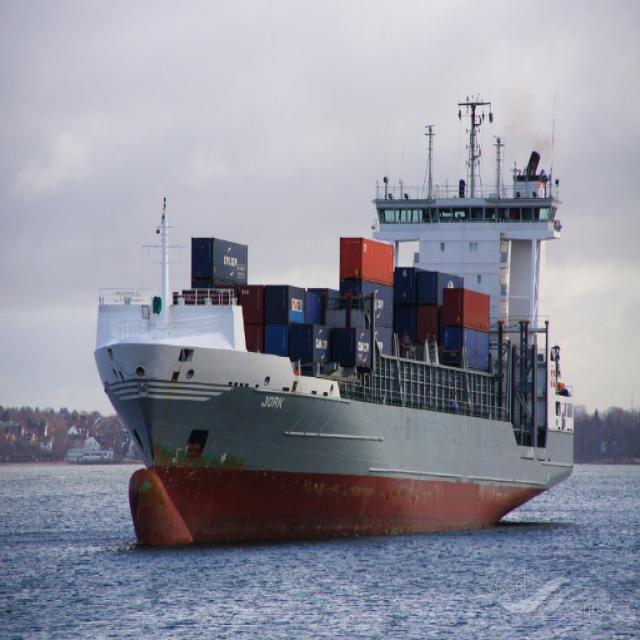Container Ship: (95, 103, 575, 541)
